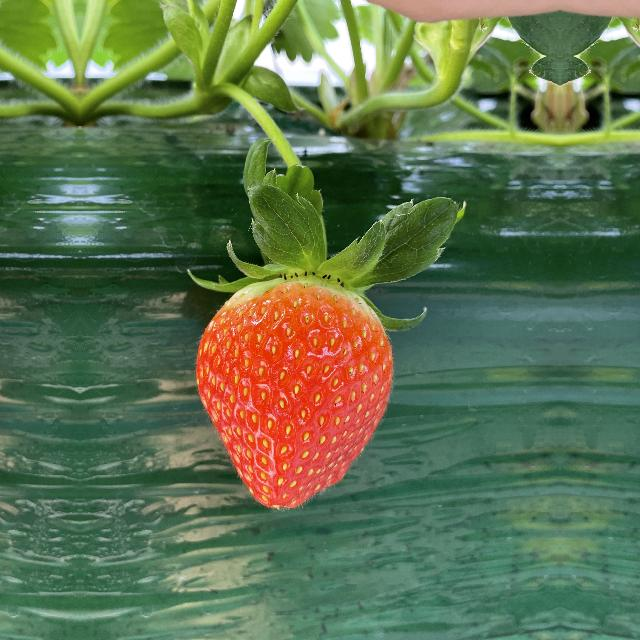Health_100: (192, 271, 402, 514)
